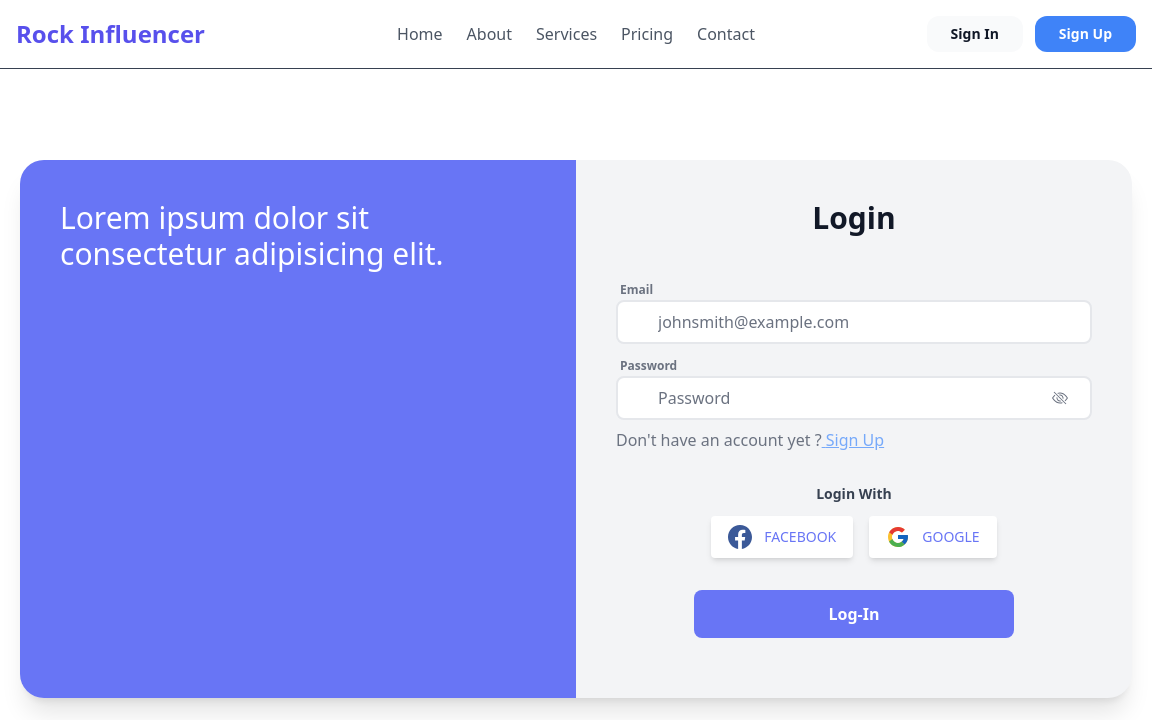
Test case: LoginForm › should toggle password visibility when the toggle button is clicked
This screenshot has width=1152, height=720.
Type a password into the input field
Type "mysecretpassword" into the password field named "password" at (854, 398), box x1=616 y1=376 x2=1092 y2=420
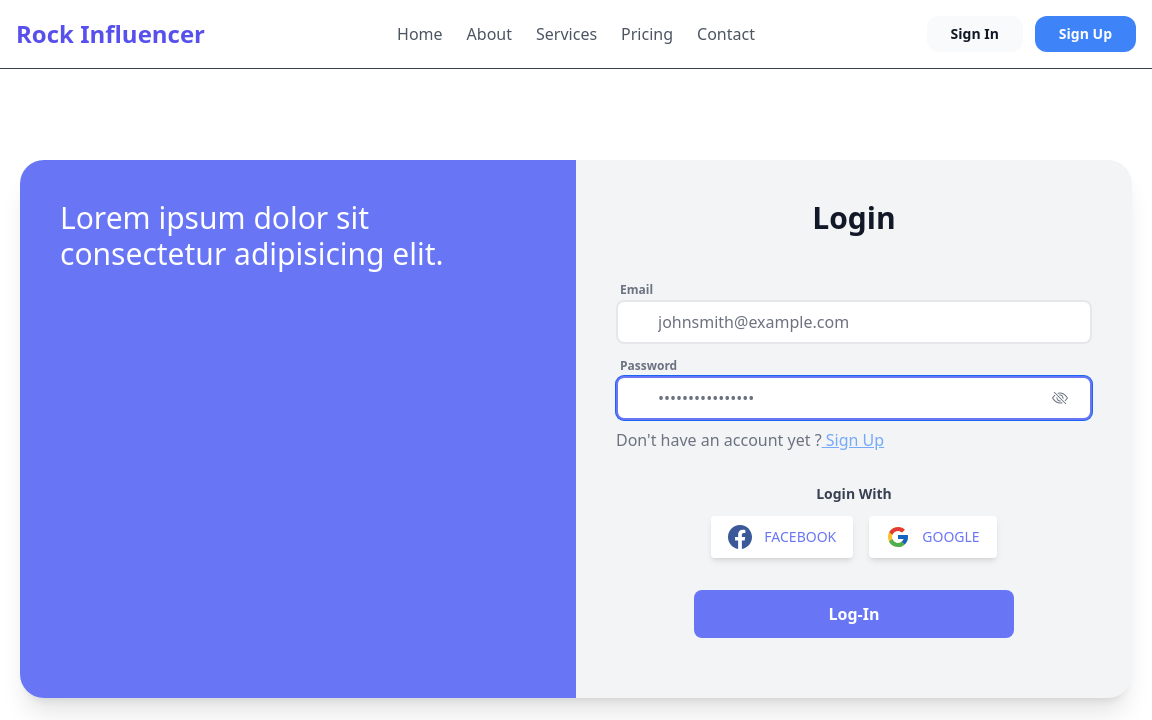
Click the toggle button
Click the element with class "passwordVisibility" at (1060, 398), box x1=1052 y1=390 x2=1068 y2=406
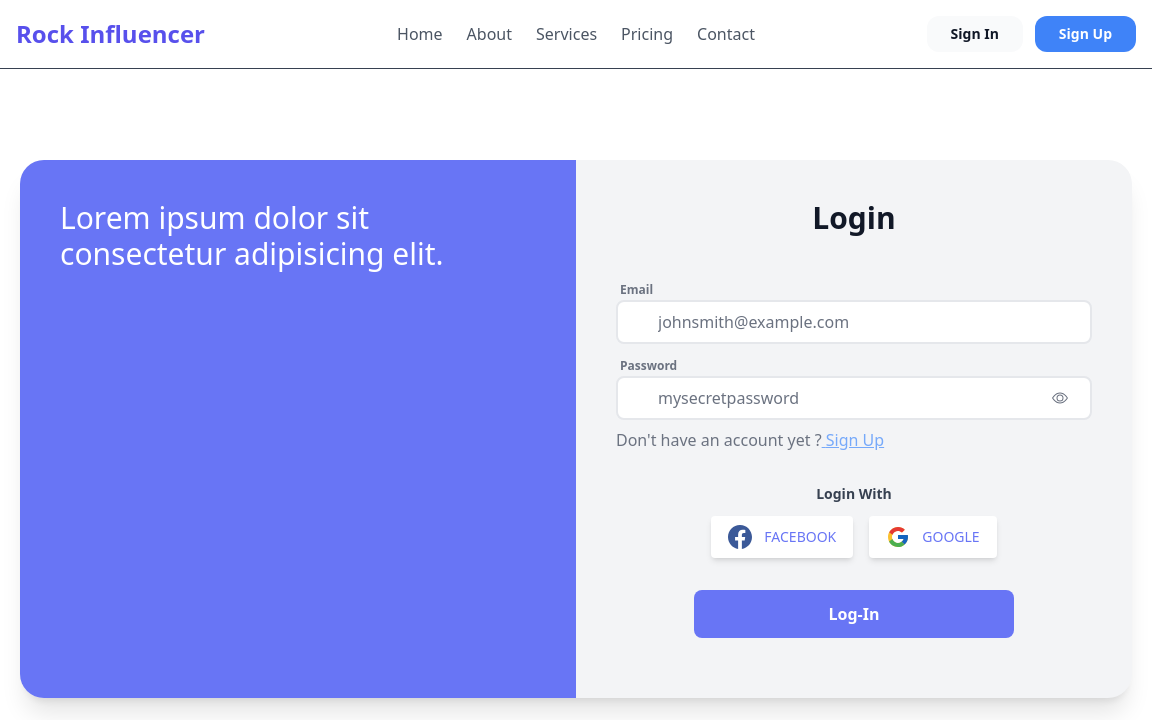
Expected: the field named "password" shows its text, x1=616 y1=376 x2=1092 y2=420
Click the toggle button again
Click the element with class "passwordVisibility" at (1060, 398), box x1=1052 y1=390 x2=1068 y2=406
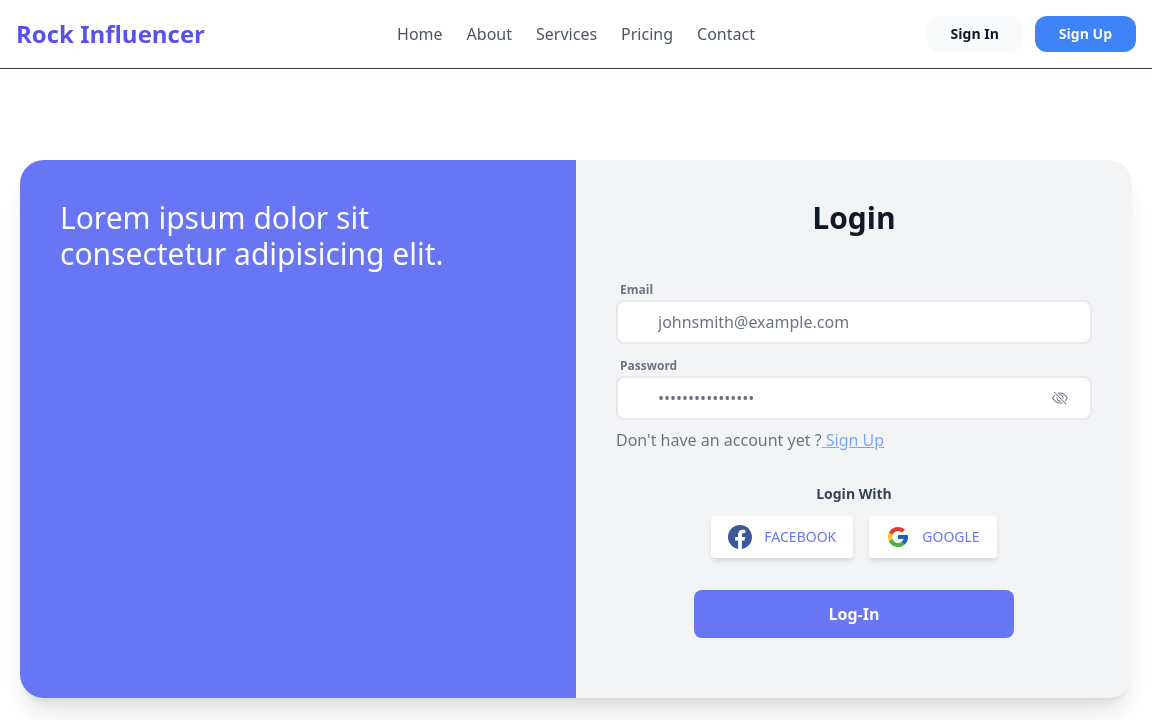
Expected: the password field named "password" hides its text, x1=616 y1=376 x2=1092 y2=420
